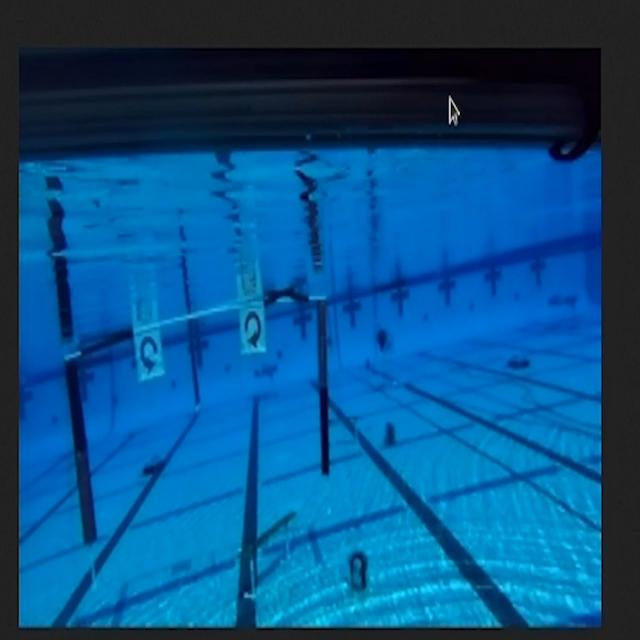Gate: (59, 280, 340, 556)
